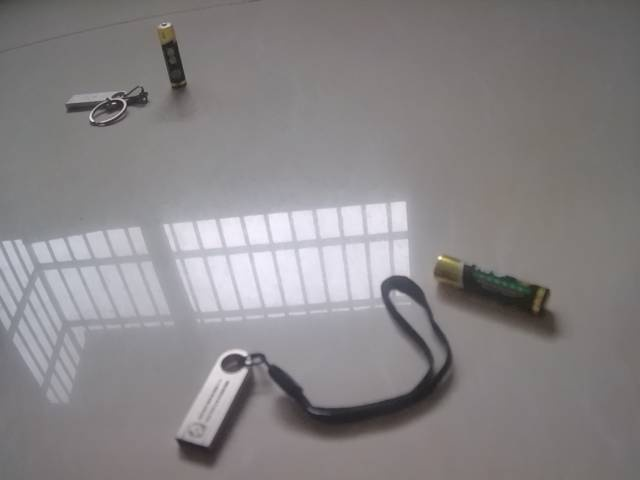U-disk: (164, 338, 371, 470), (65, 85, 151, 128)
battery: (430, 248, 557, 321), (151, 18, 192, 94)
